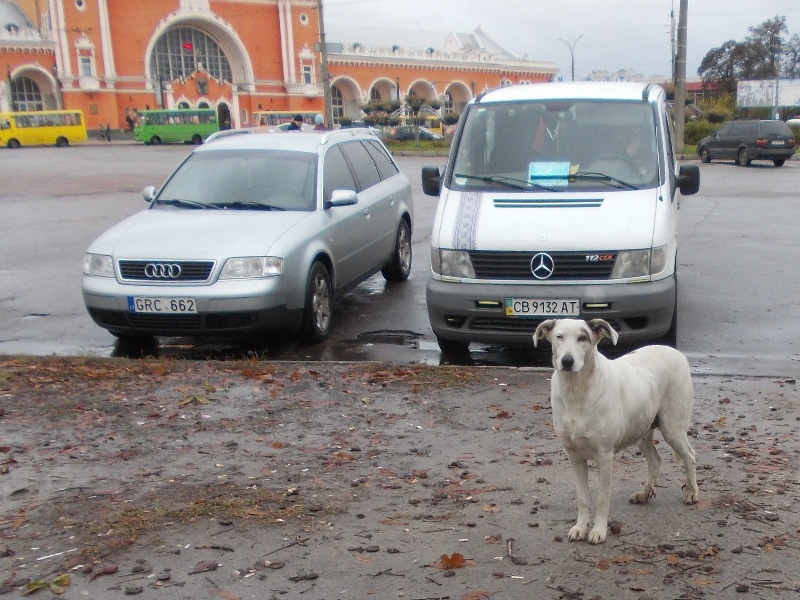car: (426, 82, 699, 360), (83, 128, 414, 335), (696, 121, 795, 167), (1, 109, 86, 149), (133, 108, 218, 144), (250, 111, 322, 128), (388, 125, 442, 141)
person: (613, 124, 645, 156), (285, 115, 304, 132)
plate: (504, 297, 579, 316), (129, 296, 197, 315)
